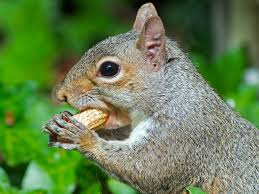squirrel: (41, 5, 256, 192)
